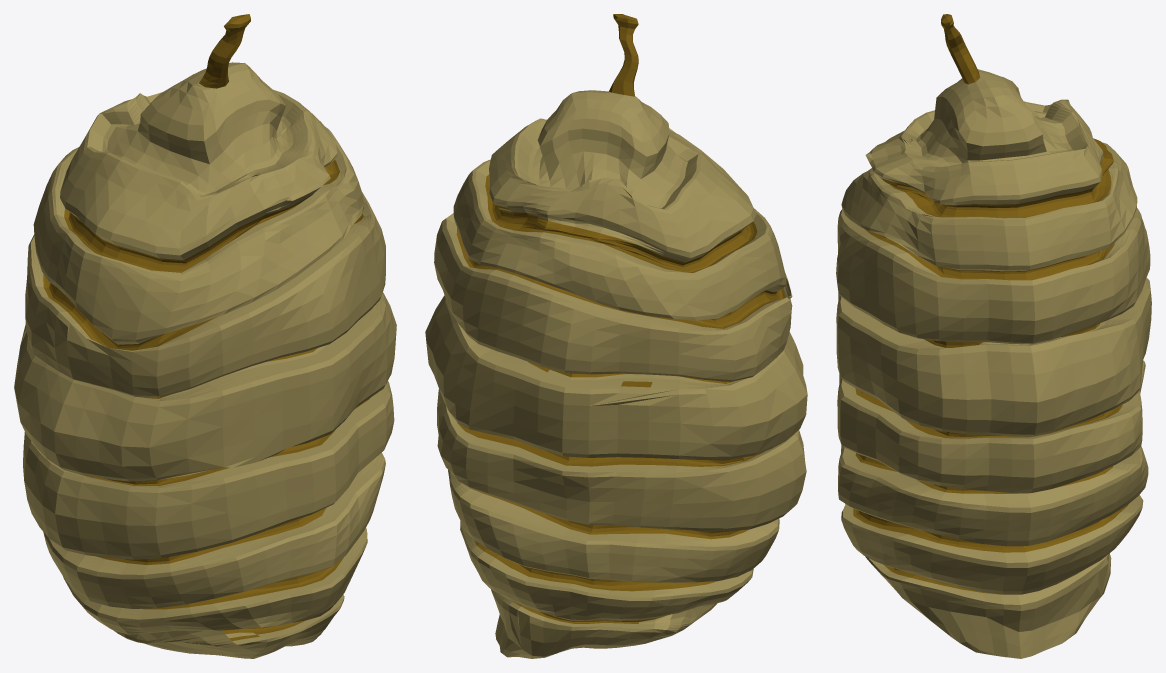
File: beehive2.fbx
3 views of the same model, side by side, from view 1: azimuth 30°, elevation 25°; view 2: azimuth 150°, elevation 25°; view 3: azimuth 270°, elevation 25° (orthographic). The views are drawn at different scales.
Visible parts, largest first — view 1: Bee_Hive; view 2: Bee_Hive; view 3: Bee_Hive.
Boxes of the visible parts, x1,y1,x2,y2 form: Bee_Hive: [14, 14, 396, 658]; Bee_Hive: [425, 14, 807, 658]; Bee_Hive: [836, 14, 1151, 658].
Bounding box in the file's own units: 4.86 × 8.59 × 4.09.
